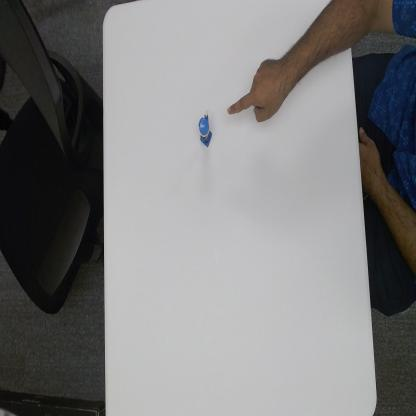Arm: (288, 0, 358, 93)
Hand: (225, 53, 289, 124)
